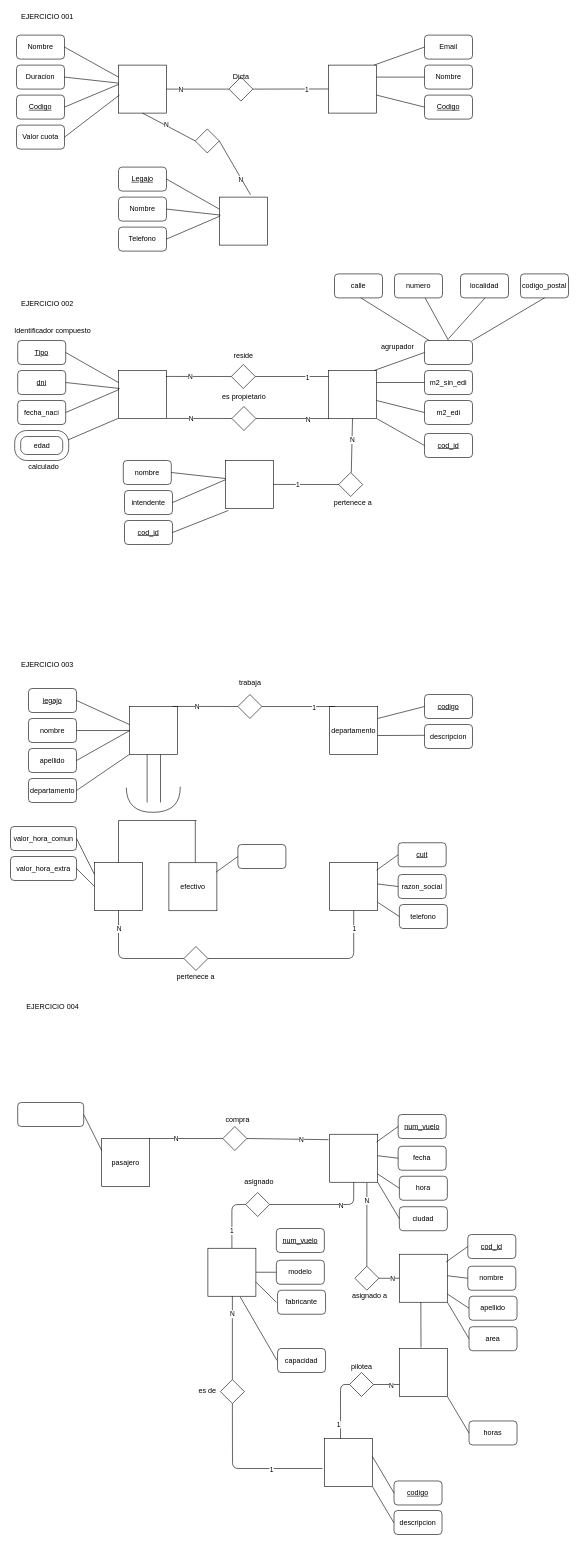
Some shapes in this 579 by 1545 pixel diagram are drawn without their labels. Each missing label, with the centre of its shape:
Alumno: (243,220)
avion: (231,1272)
consultora: (353,886)
contratado: (118,886)
Curso: (142,88)
domicilio: (448,352)
empleado: (153,730)
Habitante: (142,394)
Instructor: (352,88)
municipio: (249,484)
pasaporte: (50,1114)
personal: (423,1278)
piloto: (423,1372)
salario: (261,856)
tipo de avión: (348,1462)
Viviendas: (352,394)
vuelos: (353,1158)
